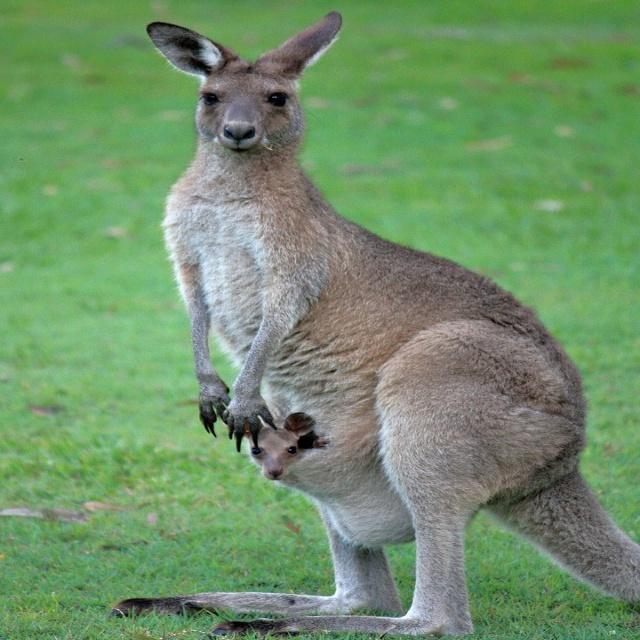Kangaroo: (107, 10, 640, 636)
